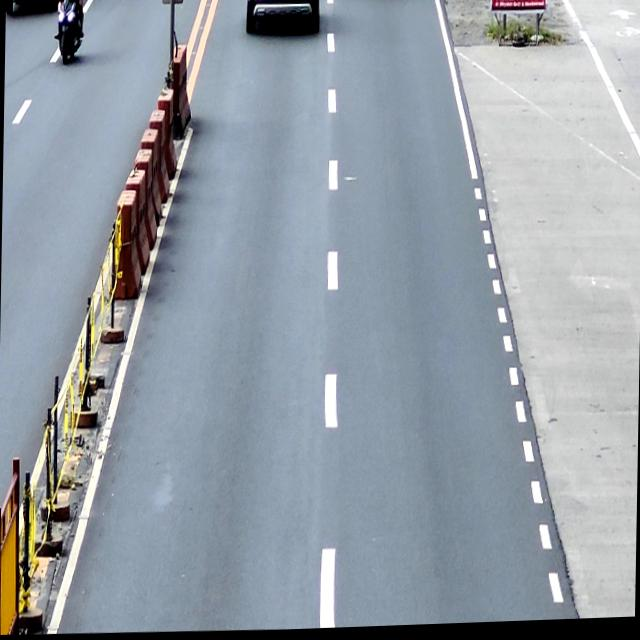Car: (244, 0, 319, 38)
Motorcycle: (53, 0, 84, 65)
